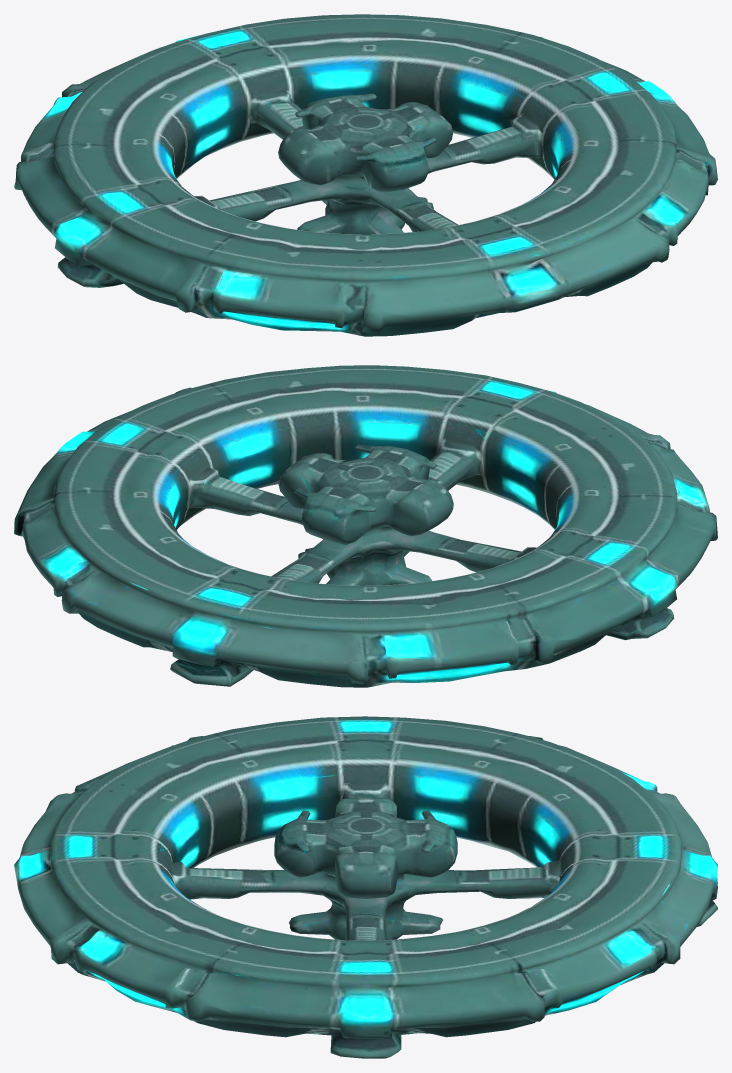
The model's file is nave-anillo.glb.
The picture shows the model from 3 angles, top to bottom: view 1: azimuth 30°, elevation 25°; view 2: azimuth 150°, elevation 25°; view 3: azimuth 270°, elevation 25°; orthographic projection.
Size of the model in its own units: 1.91 by 0.3249 by 1.91.
Materials: 1 (1 with a texture image).
